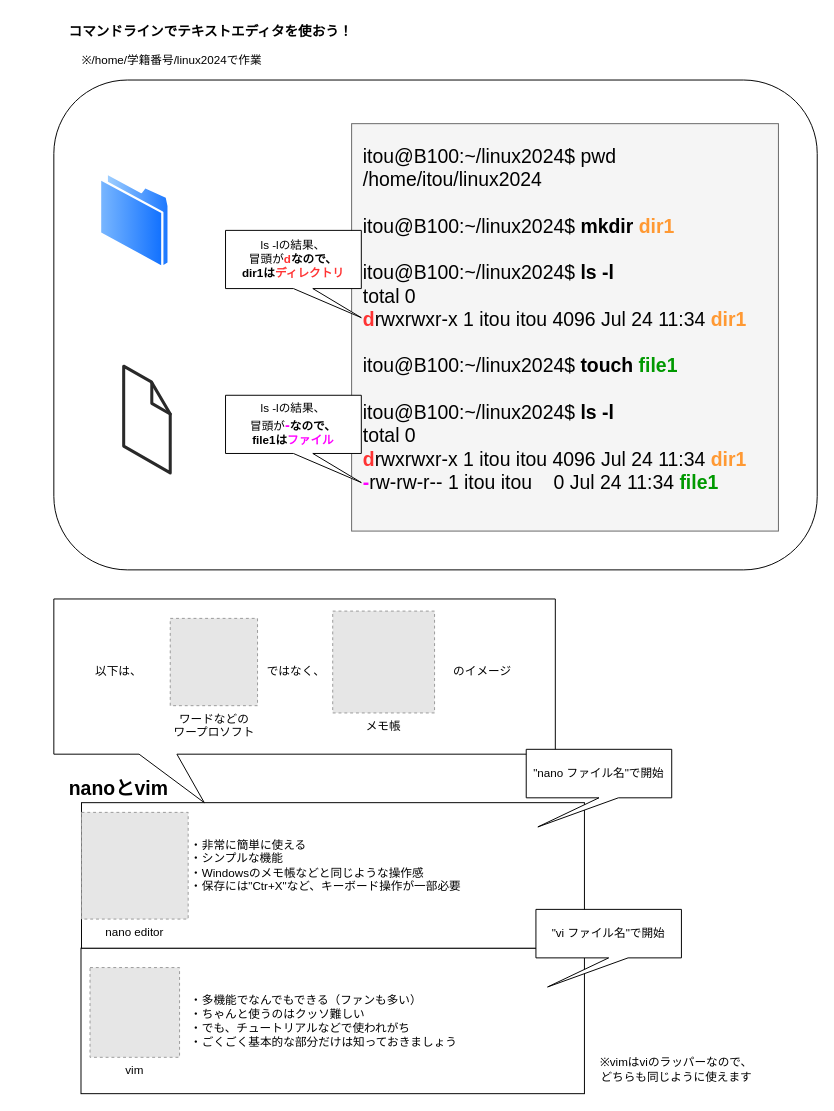
This 834x1111 diagram has some shape labels left out. Grey dashed boxes stand in for pictures. Each missing label, with the box of its shape:
ディレクトリとは、 Windowsでいうところの フォルダに相当する: (99, 172, 170, 269)
ファイルは テキストなどを記入するもの: (123, 365, 170, 473)
